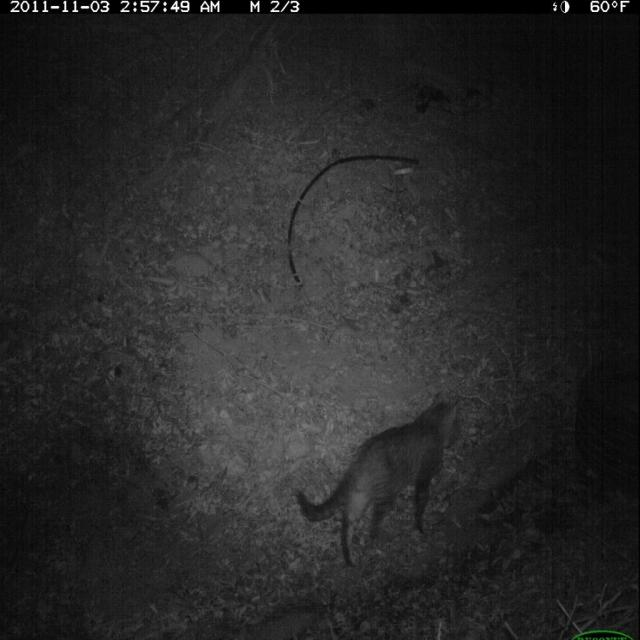cat: (285, 389, 470, 573)
